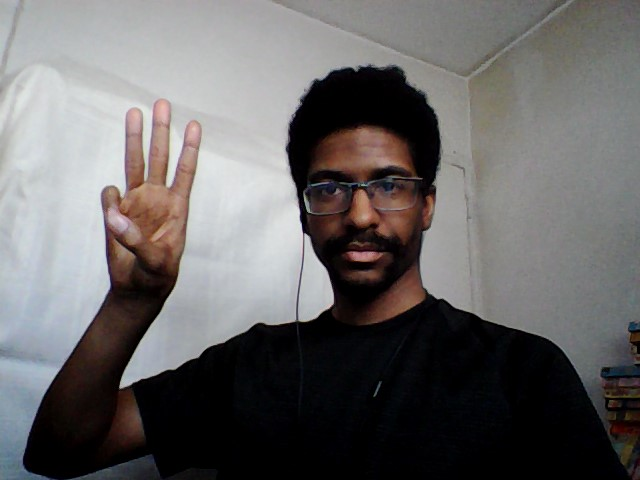w: (91, 93, 207, 301)
